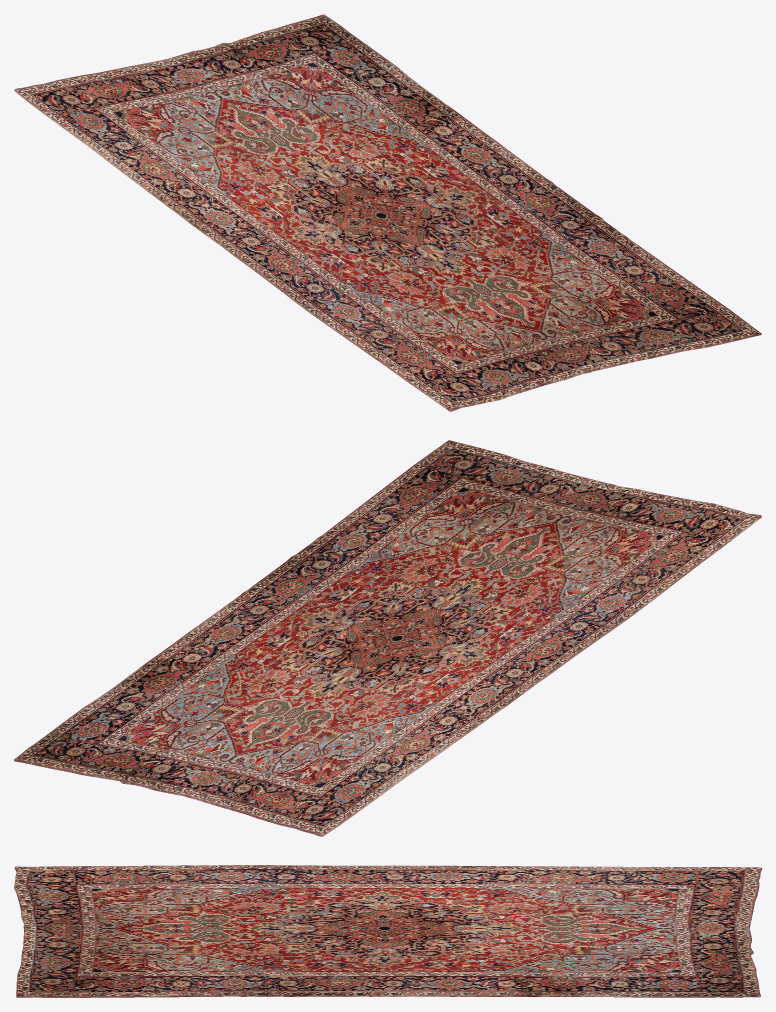
Rendered from carpet.fbx.
The picture shows the model from 3 angles, top to bottom: view 1: azimuth 30°, elevation 25°; view 2: azimuth 150°, elevation 25°; view 3: azimuth 270°, elevation 25°; orthographic projection. The views are drawn at different scales.
Visible parts, largest first — view 1: carpet; view 2: carpet; view 3: carpet.
Boxes of the visible parts, box(x1,y1,x2,y2) form: carpet: box(14, 14, 761, 411); carpet: box(14, 440, 761, 836); carpet: box(14, 865, 761, 997).
Bounding box in the file's own units: 120 × 0.3847 × 288.
1 material, 1 textured.
